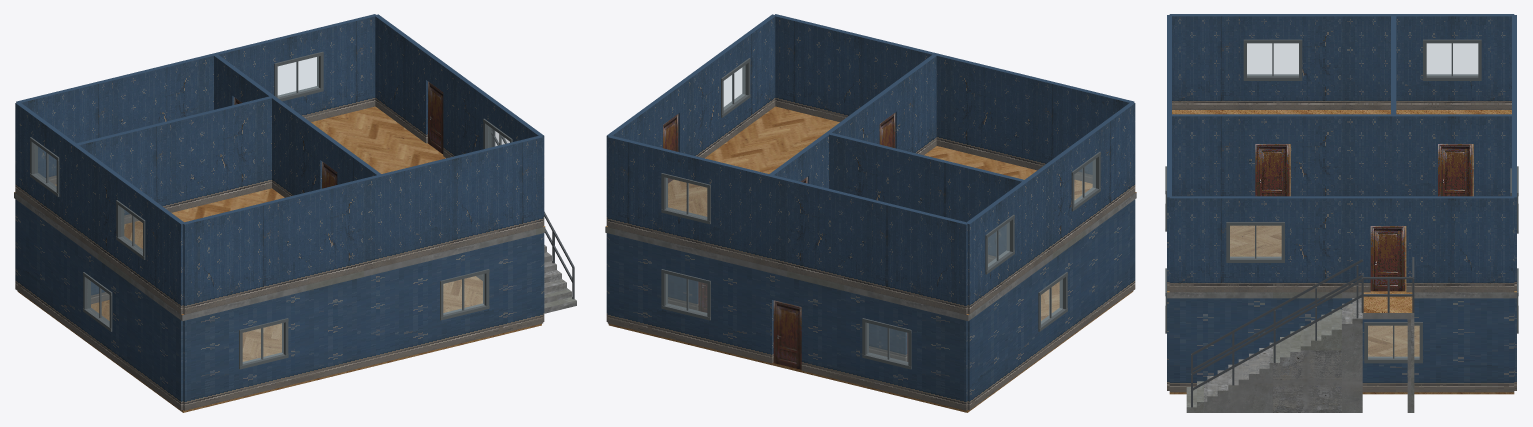
File: house.glb
The picture shows the model from 3 angles, left to right: view 1: azimuth 30°, elevation 25°; view 2: azimuth 150°, elevation 25°; view 3: azimuth 270°, elevation 25°; orthographic projection. The views are drawn at different scales.
Visible parts, largest first — view 1: House_Upper_Walls-col, House_Walls-col, House_Upper_Floor-col, House_Floor-col, House_Window_Ground_Back_Right_Glass-col, House_Window_Upper_Front_Living_Glass-col, House_Window_Ground_Back_Left_Glass-col, House_Exterior_Stairs, Door_Upper_Entrance, House_Window_Upper_Left_Bedroom_Glass-col, House_Window_Upper_Left_Bathroom_Glass-col, House_Window_Ground_Left_Glass-col; view 2: House_Upper_Walls-col, House_Walls-col, House_Upper_Floor-col, Door_Entrada, House_Floor-col, House_Window_Upper_Front_Living_Glass-col, House_Window_Ground_Front_Left_Glass-col, House_Window_Ground_Front_Right_Glass-col, House_Window_Upper_Right_Living_Glass-col, House_Window_Upper_Left_Bedroom_Glass-col, House_Window_Upper_Left_Bathroom_Glass-col, House_Window_Ground_Left_Glass-col (+2 smaller); view 3: House_Upper_Walls-col, House_Walls-col, House_Exterior_Stairs, House_Upper_Floor-col, Door_Upper_Entrance, House_Upper_Landing-col, House_Floor-col, Door_Upper_Bathroom, Door_Upper_Bedroom_Access, House_Window_Upper_Left_Bathroom_Glass-col, House_Window_Upper_Left_Bedroom_Glass-col, House_Window_Upper_Right_Living_Glass-col (+9 smaller).
Boxes of the visible parts, x1=… form: House_Upper_Walls-col: x1=15, y1=14, x2=544, y2=314; House_Walls-col: x1=15, y1=199, x2=544, y2=410; House_Upper_Floor-col: x1=14, y1=106, x2=545, y2=321; House_Floor-col: x1=17, y1=276, x2=541, y2=412; House_Window_Ground_Back_Right_Glass-col: x1=443, y1=274, x2=484, y2=314; House_Window_Upper_Front_Living_Glass-col: x1=278, y1=56, x2=318, y2=97; House_Window_Ground_Back_Left_Glass-col: x1=243, y1=323, x2=283, y2=363; House_Exterior_Stairs: x1=544, y1=245, x2=576, y2=313; Door_Upper_Entrance: x1=428, y1=81, x2=443, y2=154; House_Window_Upper_Left_Bedroom_Glass-col: x1=121, y1=207, x2=142, y2=252; House_Window_Upper_Left_Bathroom_Glass-col: x1=35, y1=144, x2=56, y2=188; House_Window_Ground_Left_Glass-col: x1=88, y1=279, x2=109, y2=323; House_Upper_Walls-col: x1=606, y1=14, x2=1135, y2=314; House_Walls-col: x1=606, y1=199, x2=1135, y2=410; House_Upper_Floor-col: x1=605, y1=106, x2=1136, y2=321; Door_Entrada: x1=773, y1=300, x2=801, y2=369; House_Floor-col: x1=608, y1=281, x2=1133, y2=412; House_Window_Upper_Front_Living_Glass-col: x1=666, y1=178, x2=706, y2=218; House_Window_Ground_Front_Left_Glass-col: x1=867, y1=323, x2=907, y2=363; House_Window_Ground_Front_Right_Glass-col: x1=666, y1=274, x2=706, y2=314; House_Window_Upper_Right_Living_Glass-col: x1=724, y1=65, x2=745, y2=109; House_Window_Upper_Left_Bedroom_Glass-col: x1=1074, y1=159, x2=1095, y2=203; House_Window_Upper_Left_Bathroom_Glass-col: x1=988, y1=222, x2=1009, y2=266; House_Window_Ground_Left_Glass-col: x1=1041, y1=279, x2=1062, y2=323; House_Upper_Walls-col: x1=1167, y1=14, x2=1516, y2=292; House_Walls-col: x1=1167, y1=298, x2=1516, y2=392; House_Exterior_Stairs: x1=1186, y1=298, x2=1362, y2=412; House_Upper_Floor-col: x1=1167, y1=110, x2=1516, y2=298; Door_Upper_Entrance: x1=1370, y1=226, x2=1405, y2=291; House_Upper_Landing-col: x1=1362, y1=292, x2=1414, y2=412; House_Floor-col: x1=1169, y1=325, x2=1514, y2=394; Door_Upper_Bathroom: x1=1438, y1=144, x2=1472, y2=196; Door_Upper_Bedroom_Access: x1=1255, y1=144, x2=1289, y2=196; House_Window_Upper_Left_Bathroom_Glass-col: x1=1427, y1=43, x2=1477, y2=75; House_Window_Upper_Left_Bedroom_Glass-col: x1=1247, y1=43, x2=1298, y2=75; House_Window_Upper_Right_Living_Glass-col: x1=1230, y1=226, x2=1281, y2=257.
Size of what is drawn, in the model's own units: 14.12 by 6.3 by 10.24.
Materials: 8 (5 with a texture image).
